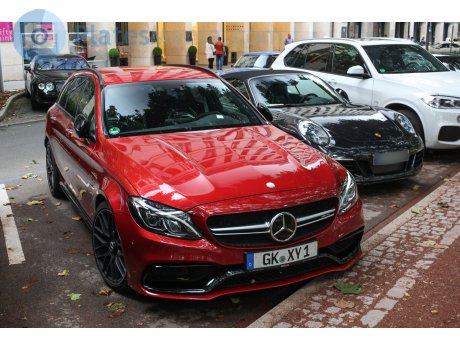License Plates: (257, 250, 316, 258)
